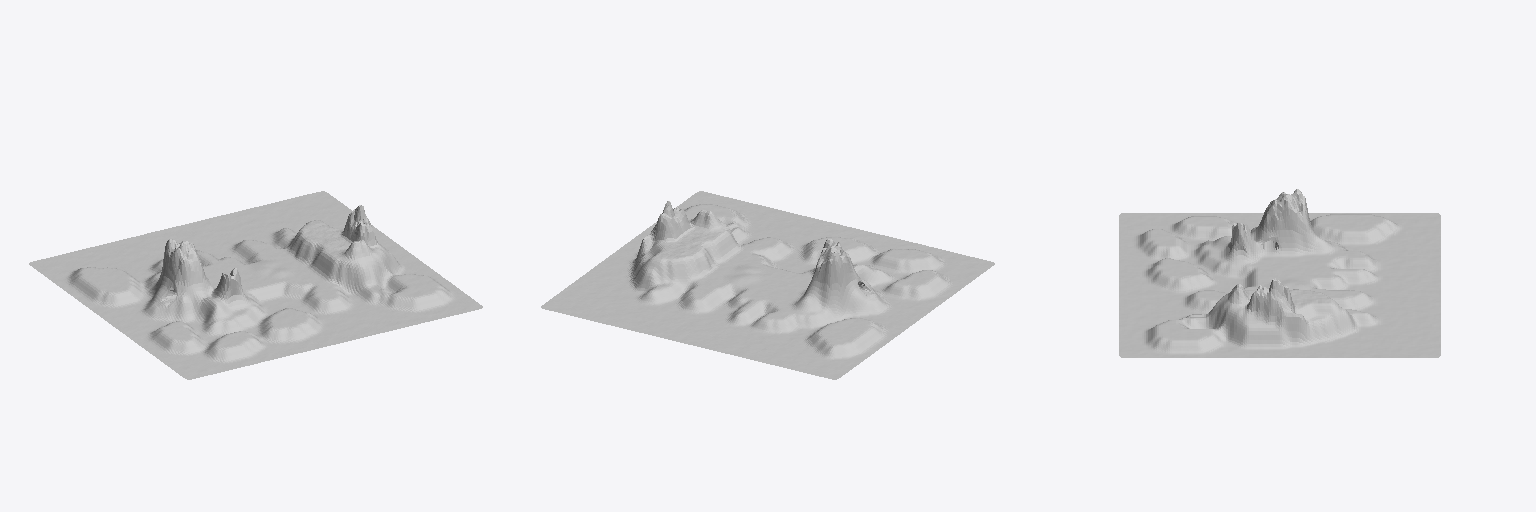
File: pelago.obj
The picture shows the model from 3 angles: view 1: azimuth 30°, elevation 25°; view 2: azimuth 150°, elevation 25°; view 3: azimuth 270°, elevation 25°; orthographic projection.
Visible parts, largest first — view 1: pelago; view 2: pelago; view 3: pelago.
Boxes of the visible parts, x1,y1,x2,y2 form: pelago: [29, 191, 482, 379]; pelago: [541, 191, 994, 379]; pelago: [1119, 189, 1440, 357].
Size of the model in its own units: 2215 by 421 by 2070.